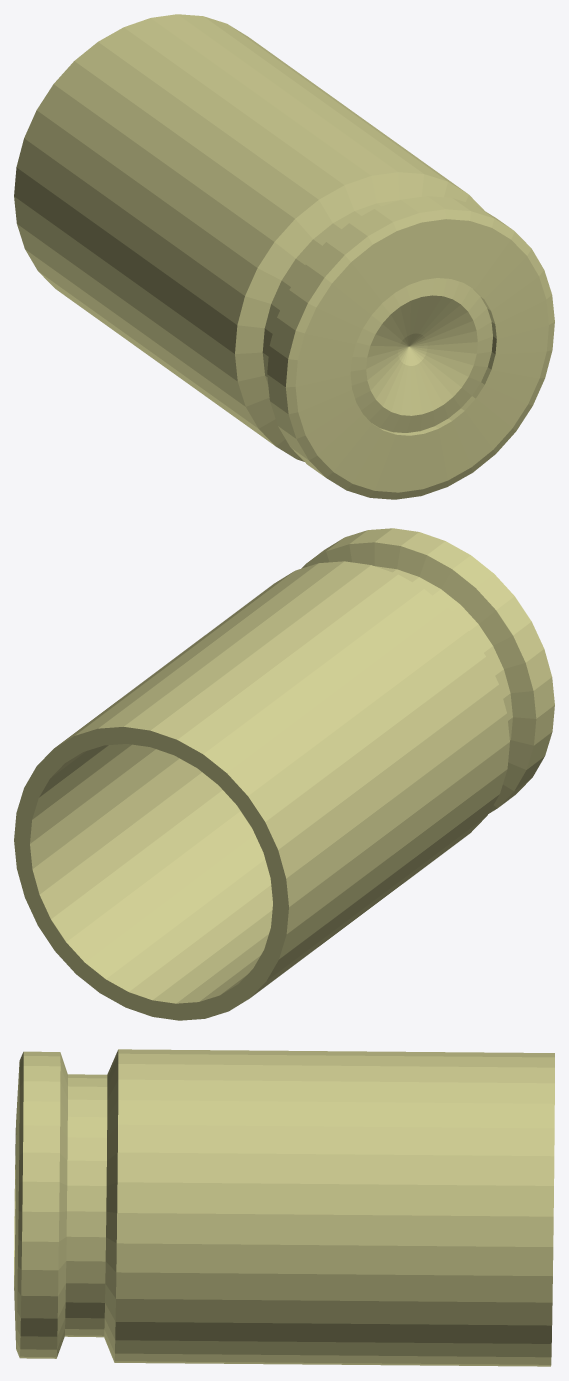
Rendered from sleeve0.fbx.
3 views of the same model, one above another, from view 1: azimuth 30°, elevation 25°; view 2: azimuth 150°, elevation 25°; view 3: azimuth 270°, elevation 25° (orthographic).
Visible parts, largest first — view 1: Цилиндр; view 2: Цилиндр; view 3: Цилиндр.
Boxes of the visible parts, box(x1,y1,x2,y2) form: Цилиндр: box(14, 14, 554, 499); Цилиндр: box(14, 528, 554, 1020); Цилиндр: box(14, 1049, 554, 1366).
Bounding box in the file's own units: 23.51 × 23.82 × 40.53.
